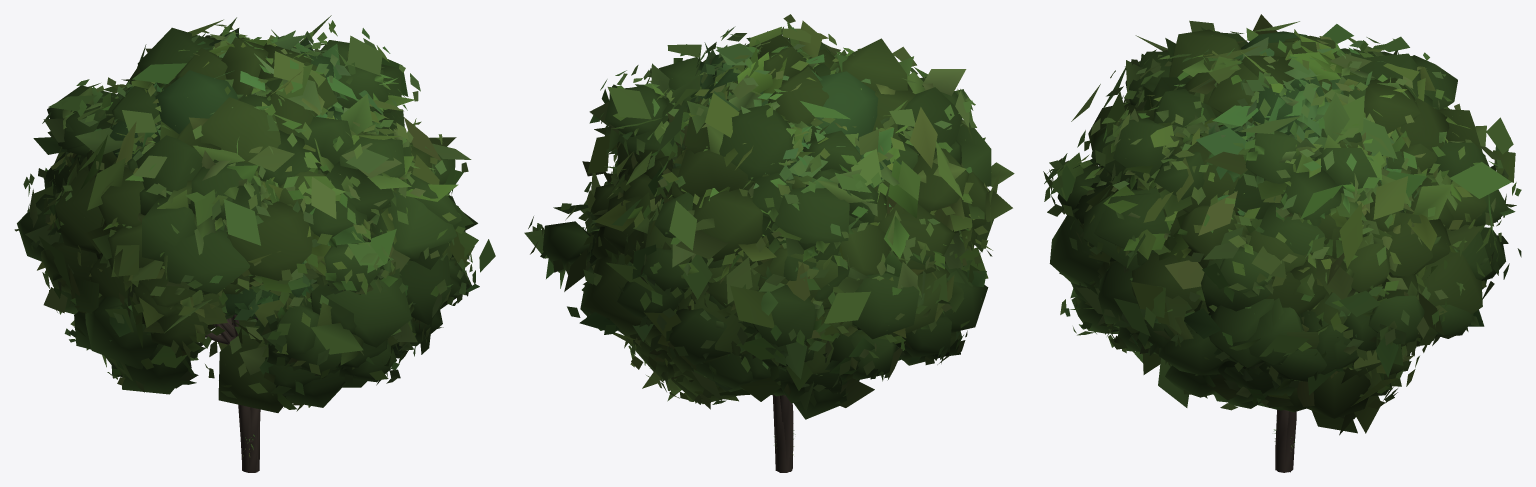
The model's file is vegetation.glb.
3 views of the same model, side by side, from view 1: azimuth 30°, elevation 25°; view 2: azimuth 150°, elevation 25°; view 3: azimuth 270°, elevation 25° (orthographic). The views are drawn at different scales.
Visible parts, largest first — view 1: tree_far_0, tree_far_2, tree_0, tree_2, tree_far_1, tree_1; view 2: tree_far_2, tree_far_0, tree_0, tree_2, tree_far_1, tree_1; view 3: tree_far_0, tree_0, tree_far_2, tree_2, tree_1, tree_far_1.
Boxes of the visible parts, x1=… form: tree_far_0: x1=17, y1=15, x2=495, y2=470; tree_far_2: x1=34, y1=19, x2=474, y2=471; tree_0: x1=14, y1=20, x2=479, y2=472; tree_2: x1=49, y1=24, x2=437, y2=470; tree_far_1: x1=109, y1=28, x2=382, y2=472; tree_1: x1=109, y1=31, x2=382, y2=472; tree_far_2: x1=582, y1=20, x2=1012, y2=471; tree_far_0: x1=524, y1=27, x2=1014, y2=465; tree_0: x1=528, y1=14, x2=991, y2=471; tree_2: x1=580, y1=33, x2=992, y2=472; tree_far_1: x1=657, y1=42, x2=901, y2=186; tree_1: x1=659, y1=26, x2=891, y2=472; tree_far_0: x1=1044, y1=20, x2=1515, y2=410; tree_0: x1=1043, y1=26, x2=1521, y2=412; tree_far_2: x1=1078, y1=14, x2=1504, y2=472; tree_2: x1=1092, y1=29, x2=1481, y2=472; tree_1: x1=1197, y1=40, x2=1419, y2=472; tree_far_1: x1=1182, y1=31, x2=1410, y2=470.
Bounding box in the file's own units: 9.71 × 10.21 × 10.29.
